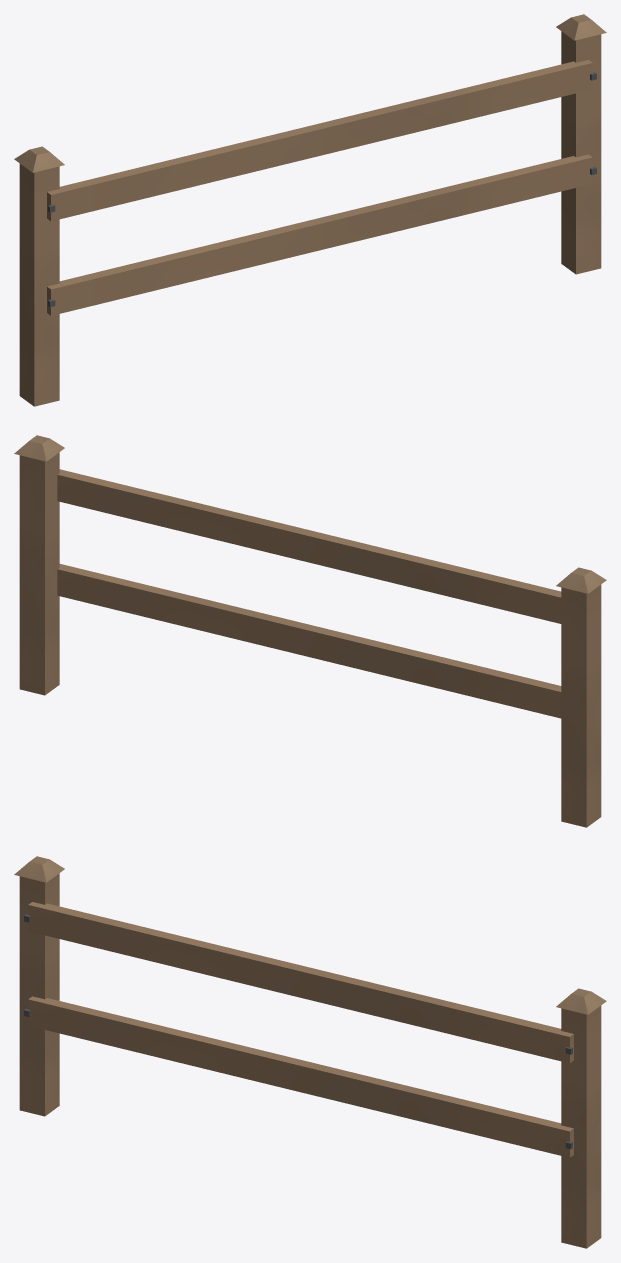
The model's file is fence_rail.obj.
3 views of the same model, one above another, from view 1: azimuth 30°, elevation 25°; view 2: azimuth 150°, elevation 25°; view 3: azimuth 330°, elevation 25° (orthographic).
Visible parts, largest first — view 1: fence_rail; view 2: fence_rail; view 3: fence_rail.
Part boxes in pixels (x1,y1,x2,y2): fence_rail: (14, 14, 606, 406); fence_rail: (14, 435, 606, 827); fence_rail: (14, 856, 606, 1248).
Bounding box in the file's own units: 3.18 × 1.31 × 0.215.
1 material, 1 textured.
